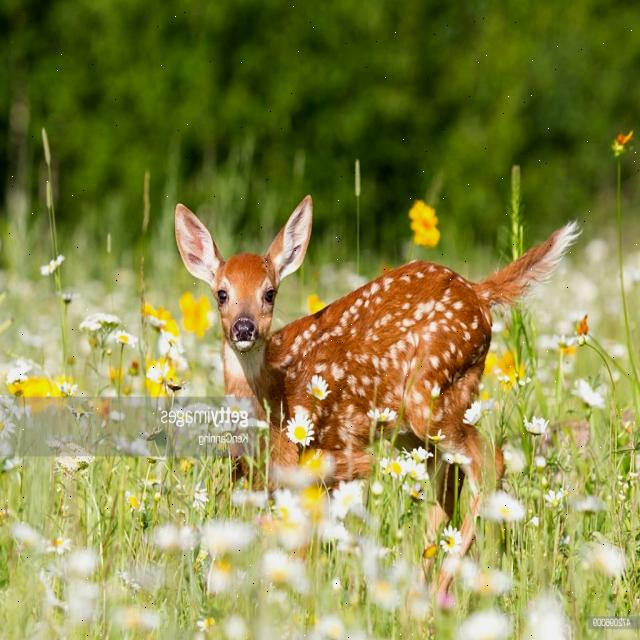deer: (167, 192, 372, 372)
